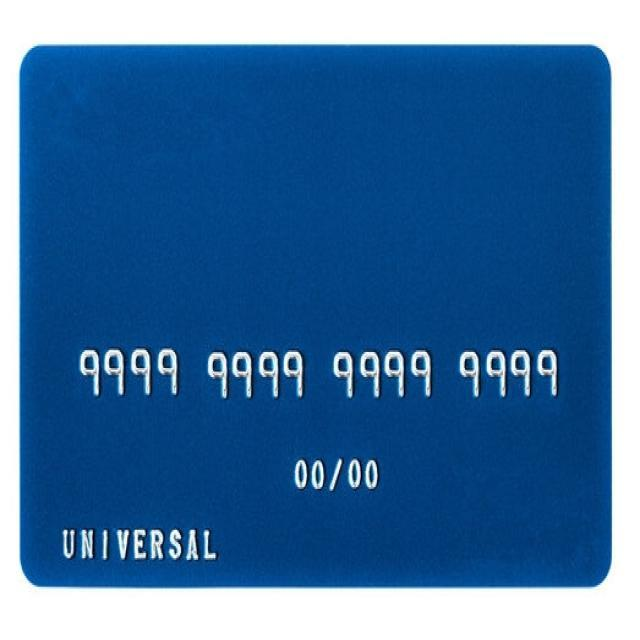payment_card: (18, 43, 613, 587)
